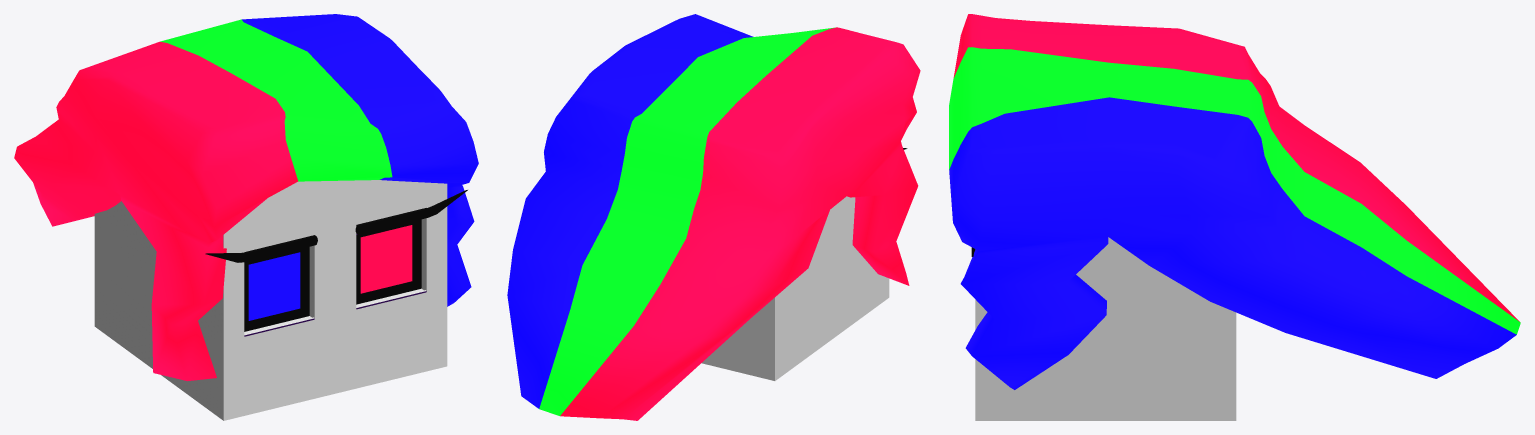
File: RGB Cube Lady.fbx
3 renders of one model, left to right at view 1: azimuth 30°, elevation 25°; view 2: azimuth 150°, elevation 25°; view 3: azimuth 270°, elevation 25°, orthographic. The views are drawn at different scales.
Visible parts, largest first — view 1: Hair, RDG Cube Lady; view 2: Hair, RDG Cube Lady; view 3: Hair, RDG Cube Lady.
Part boxes in pixels (x1=…): Hair: x1=14, y1=14, x2=478, y2=381; RDG Cube Lady: x1=94, y1=180, x2=467, y2=420; Hair: x1=507, y1=14, x2=920, y2=420; RDG Cube Lady: x1=701, y1=148, x2=907, y2=380; Hair: x1=949, y1=14, x2=1520, y2=389; RDG Cube Lady: x1=971, y1=237, x2=1236, y2=420.
Size of the model in its own units: 269 by 250 by 438.
